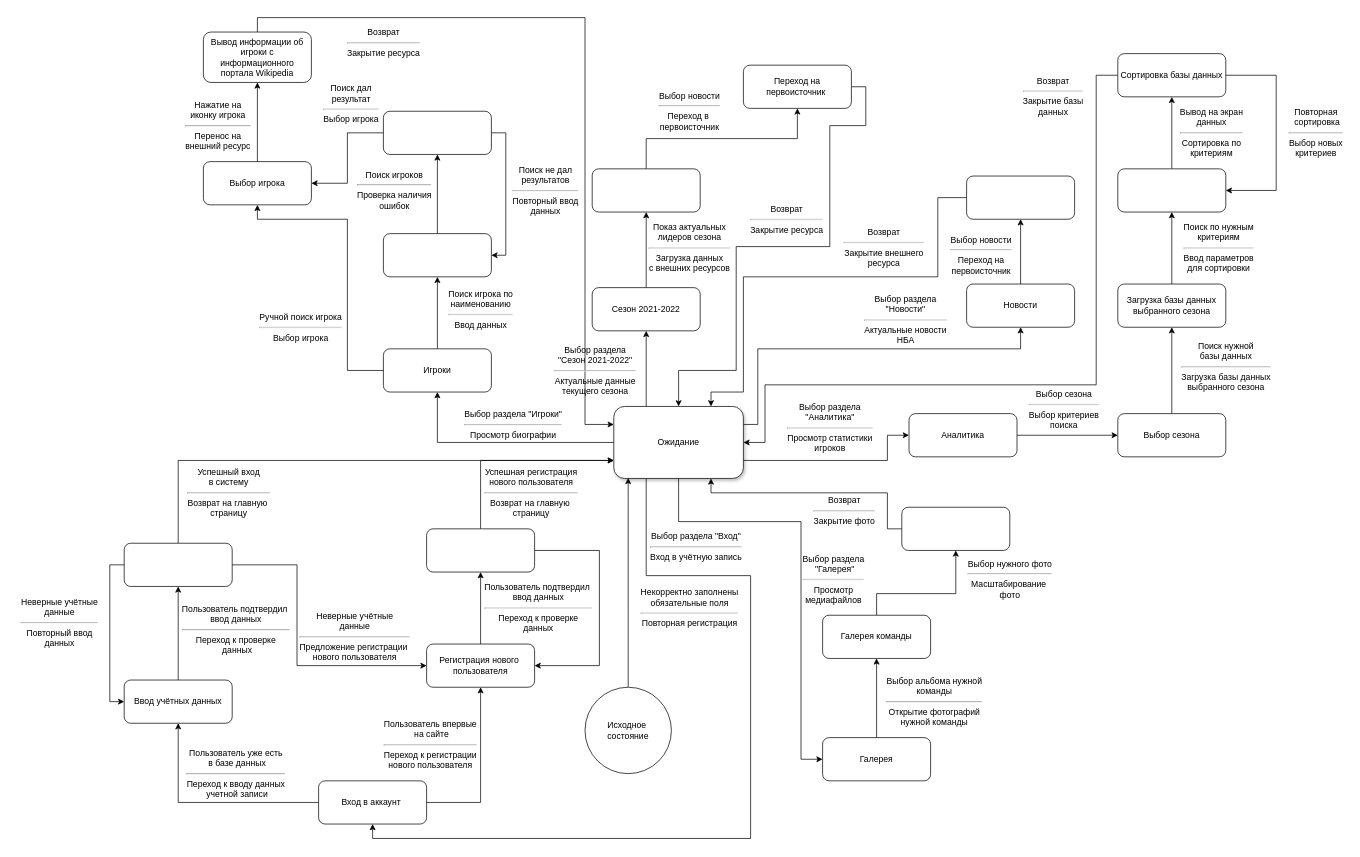
Some shapes in this 1360 by 857 pixel diagram are drawn without their labels. Each missing label, with the centre of its shape:
"Ввод данных игрока" belongs at (x=437, y=255).
"Ввод параметров для сортировки" belongs at (x=1171, y=190).
"Загрузка данных текущего сезона" belongs at (x=645, y=190).
"Переход на новостной портал первоисточник" belongs at (x=1020, y=197).
"Проверка введённых пользователем учётных данных" belongs at (x=177, y=564).
"Проверка заполненной пользователем регистрационной формы" belongs at (x=480, y=550).
"Проверка корректности введённых данных" belongs at (x=437, y=132).
"Фото" belongs at (x=955, y=528).
